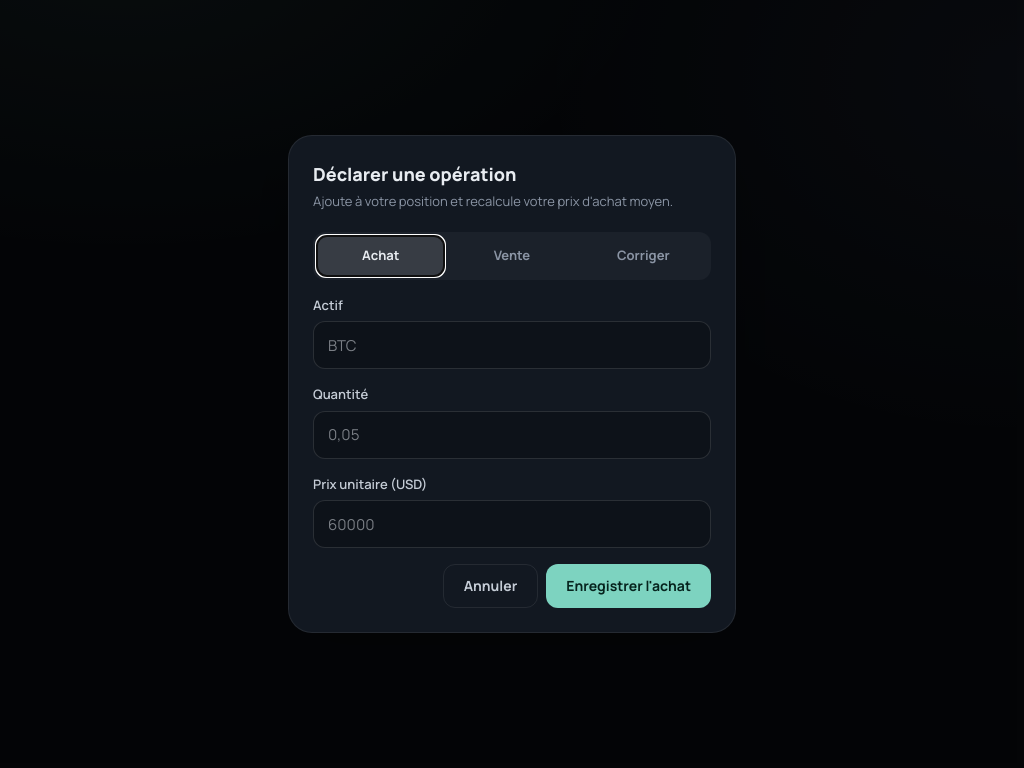
Test case: PositionDialog : vente › dit combien on détient, envoie une vente, annonce le résultat réalisé
Click the button "Vente" at (512, 256), box [448,236,576,276]
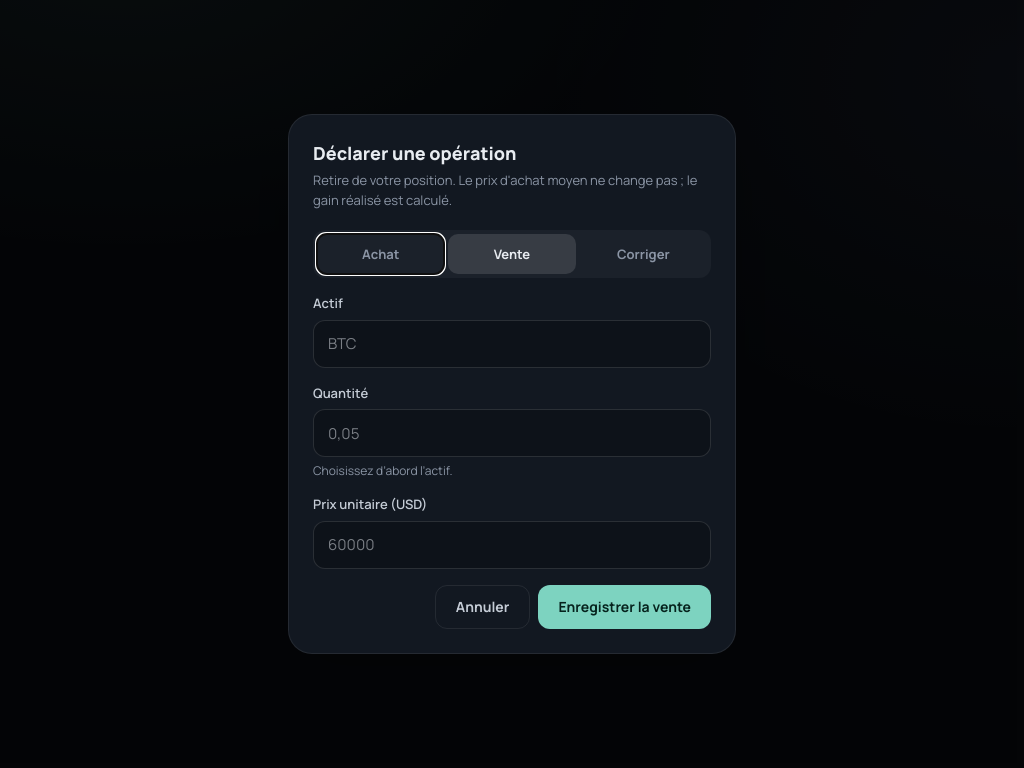
Type "btc" into the field labelled "Actif" at (512, 344), box [313,320,711,368]
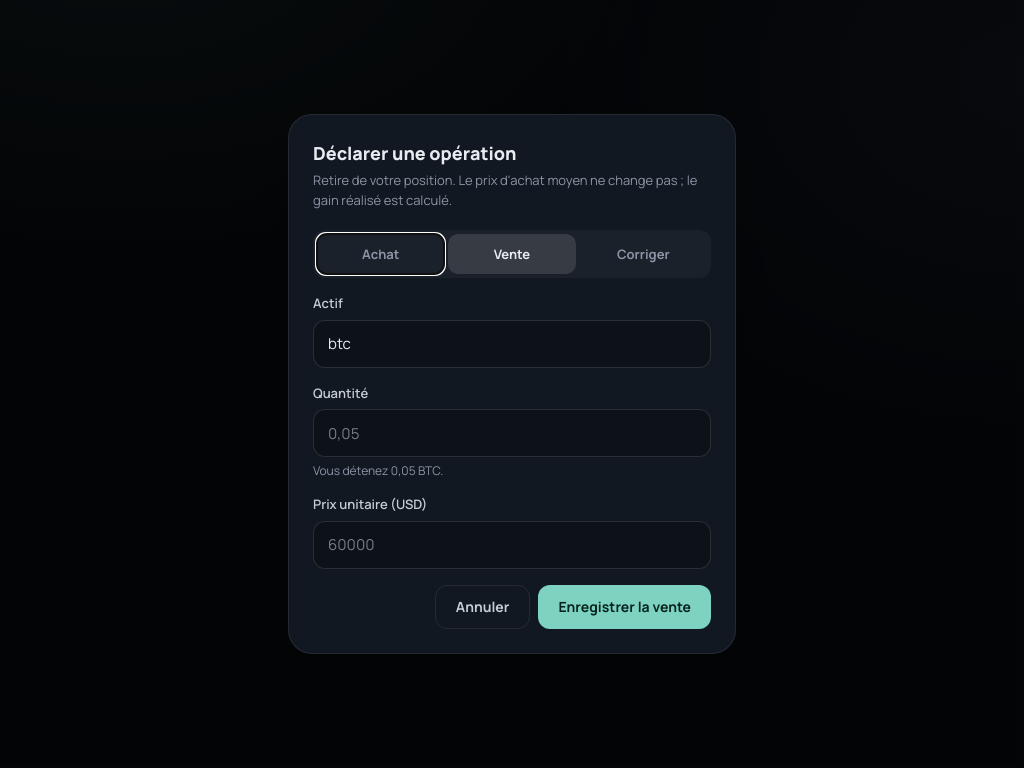
Now the text "Vous détenez 0,05 BTC." is shown, box [313,462,443,479]
Type "0.01" into the field labelled "Quantité" at (512, 433), box [313,409,711,457]
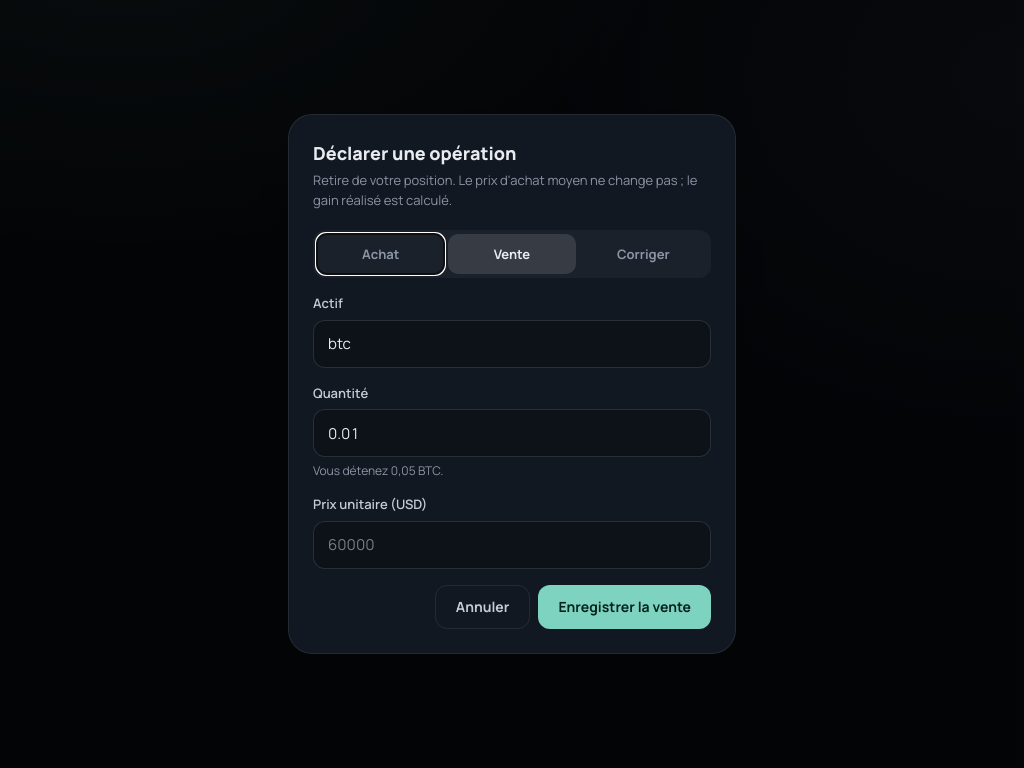
Type "80000" into the field labelled "Prix unitaire (USD)" at (512, 545), box [313,521,711,569]
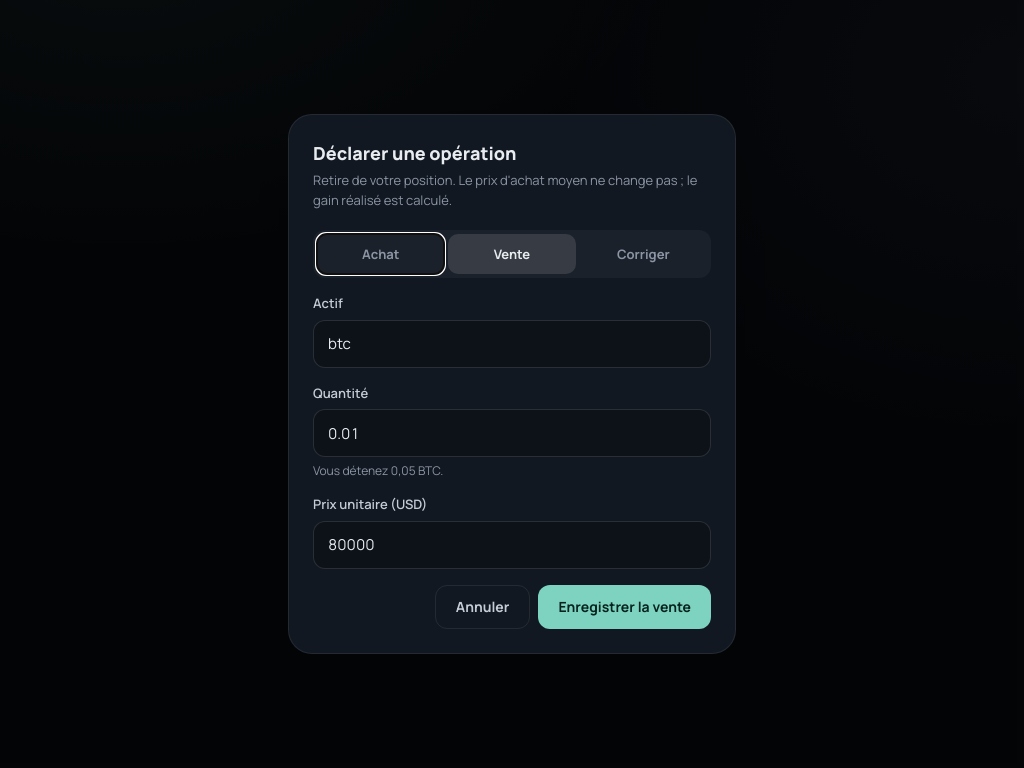
Click the button "Enregistrer la vente" at (625, 607), box [538,585,711,629]
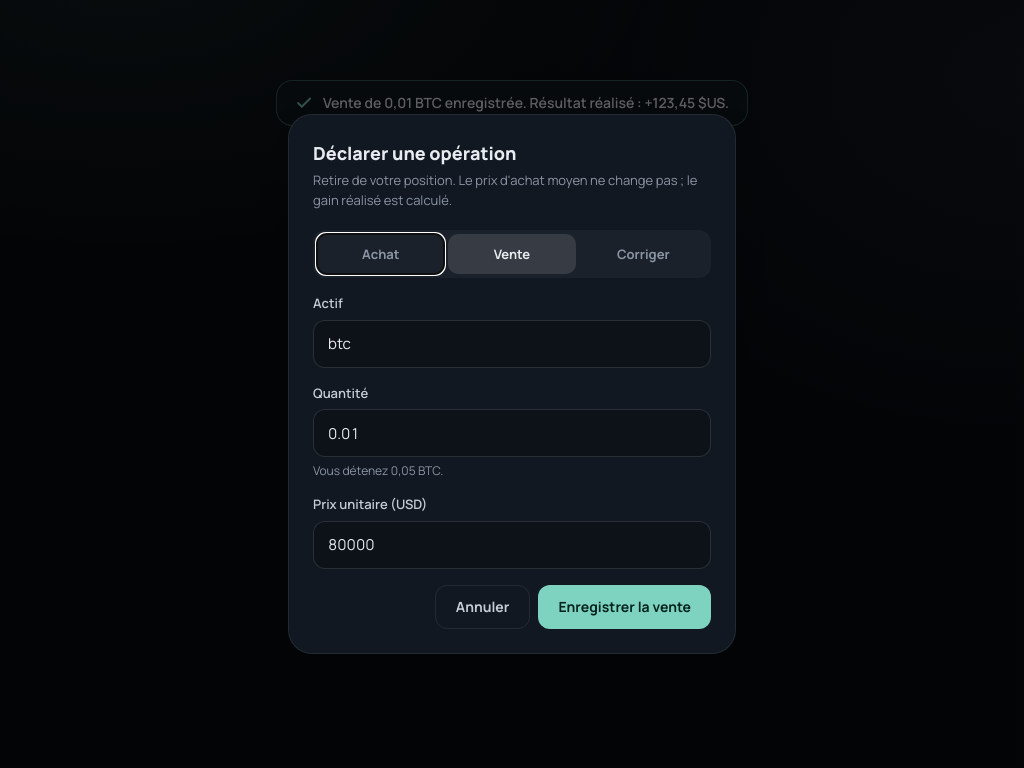
Now the text "Vente de 0,01 BTC enregistrée. Résultat réalisé : +123,45 $US." is shown, box [276,80,748,126]
